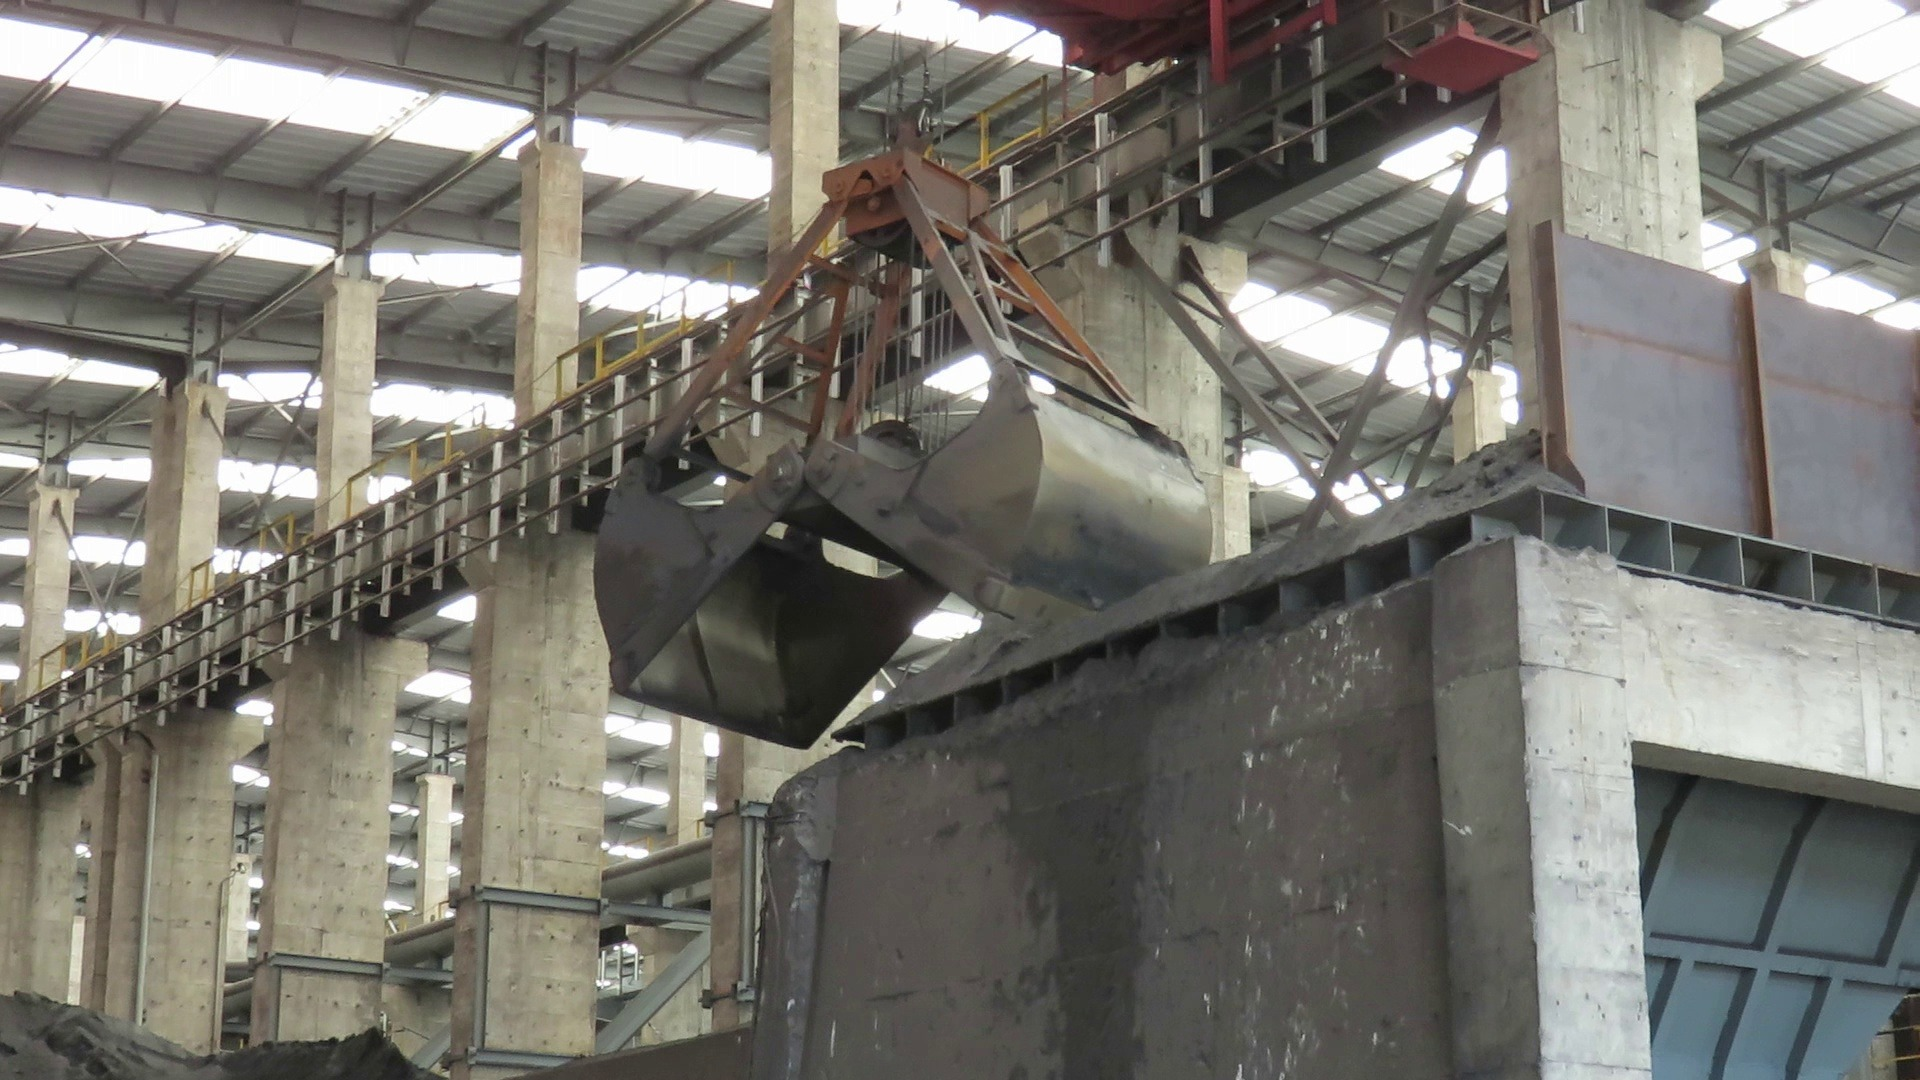grab: (583, 94, 1233, 752)
